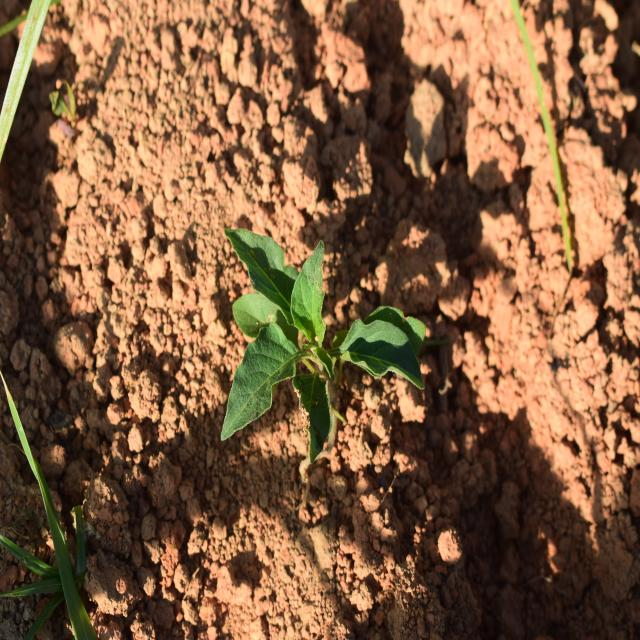Black_nightshade: (208, 228, 431, 452)
